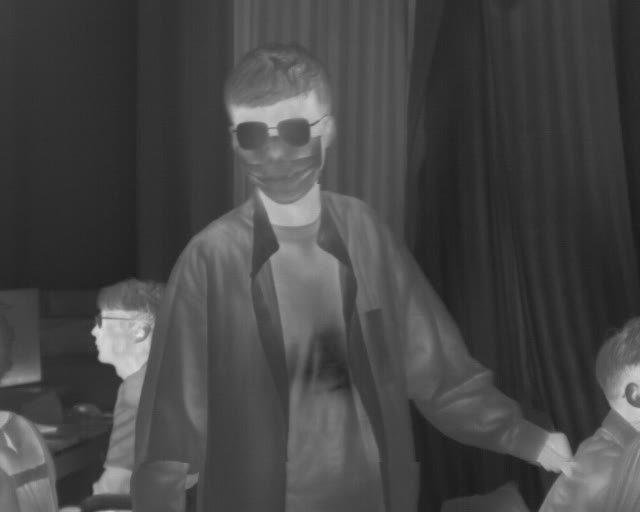face: (228, 183, 333, 311), (576, 123, 640, 264)
